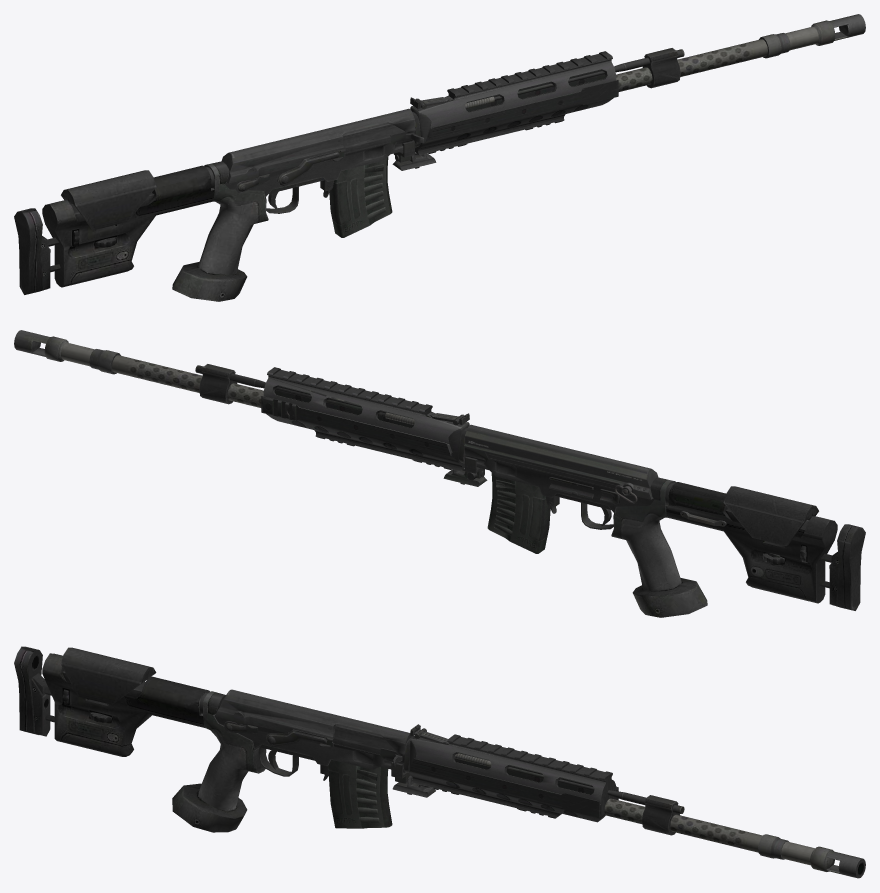
3 views of the same model, one above another, from view 1: azimuth 30°, elevation 25°; view 2: azimuth 150°, elevation 25°; view 3: azimuth 330°, elevation 25° (orthographic).
Visible parts, largest first — view 1: 0000_SR_SVD_Barrel_002_L0; view 2: 0000_SR_SVD_Barrel_002_L0; view 3: 0000_SR_SVD_Barrel_002_L0.
Boxes of the visible parts, left/top/right/bottom form: 0000_SR_SVD_Barrel_002_L0: left=14, top=14, right=865, bottom=301; 0000_SR_SVD_Barrel_002_L0: left=14, top=330, right=865, bottom=617; 0000_SR_SVD_Barrel_002_L0: left=14, top=646, right=865, bottom=878.
Size of the model in its own units: 11795 by 1959 by 674.
